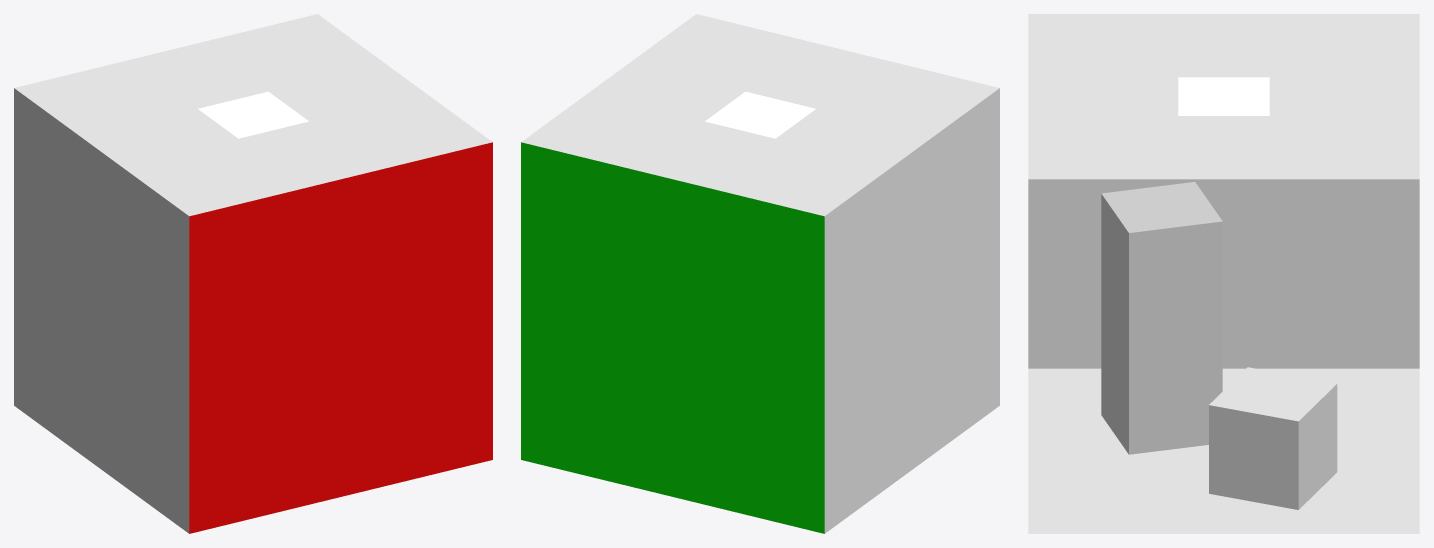
Rendered from my_cornell_8.gltf.
3 renders of one model, left to right at view 1: azimuth 30°, elevation 25°; view 2: azimuth 150°, elevation 25°; view 3: azimuth 270°, elevation 25°, orthographic. The views are drawn at different scales.
Visible parts, largest first — view 1: LeftWall, BackWall, Ceiling, Light; view 2: RightWall, BackWall, Ceiling, Light; view 3: Ceiling, BackWall, Floor, Prism, Cube, Light.
Boxes of the visible parts, x1,y1,x2,y2 form: LeftWall: (189,142,492,533); BackWall: (14,88,189,533); Ceiling: (14,14,492,216); Light: (198,91,308,138); RightWall: (521,142,824,533); BackWall: (824,88,999,533); Ceiling: (521,14,999,216); Light: (705,91,815,138); Ceiling: (1028,14,1419,179); BackWall: (1028,179,1419,368); Floor: (1028,368,1419,533); Prism: (1101,182,1222,454); Cube: (1209,367,1337,509); Light: (1178,77,1269,115).
Size of the model in its own units: 8 by 8 by 8.
